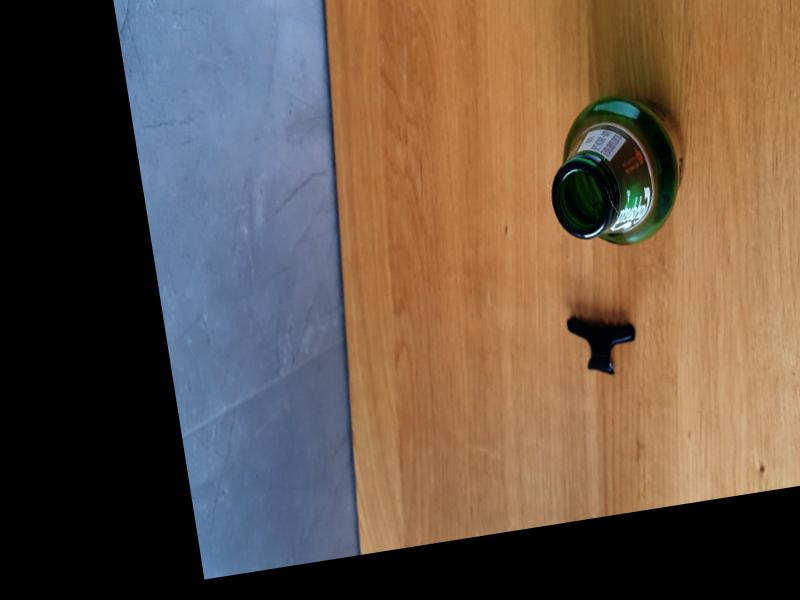Beer: (538, 87, 700, 259)
